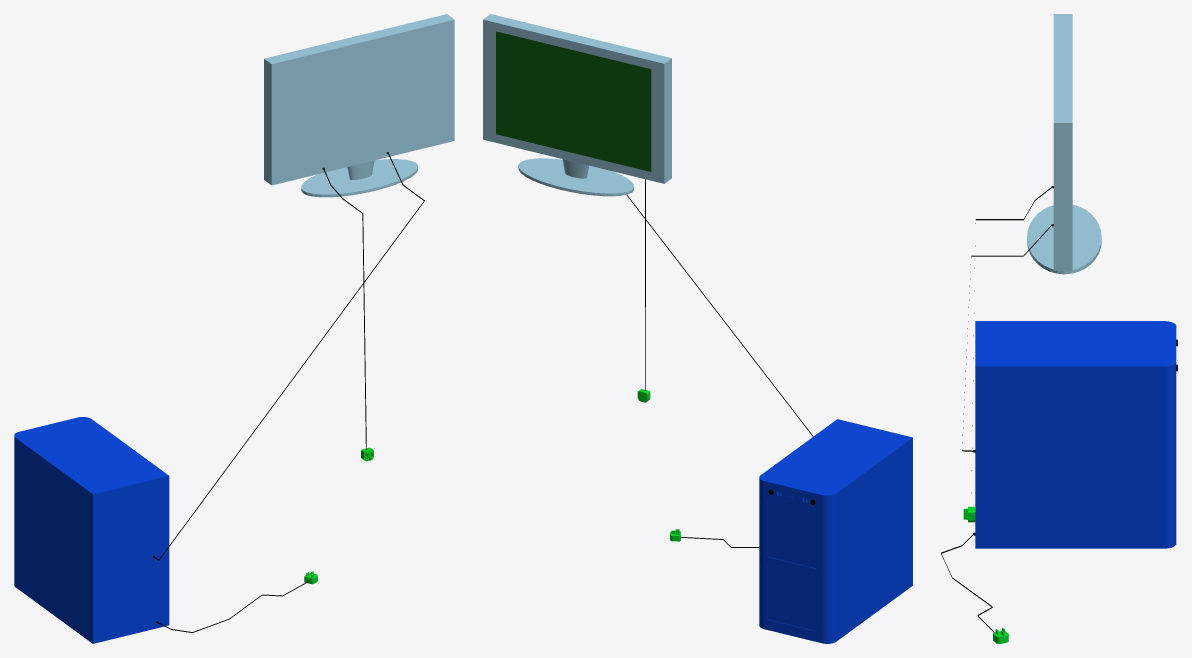
Rendered from Computer_And_Monitor.fbx.
The picture shows the model from 3 angles, left to right: view 1: azimuth 30°, elevation 25°; view 2: azimuth 150°, elevation 25°; view 3: azimuth 270°, elevation 25°; orthographic projection. The views are drawn at different scales.
Parts seen in each view (by area): view 1: Computer_And_Monitor; view 2: Computer_And_Monitor; view 3: Computer_And_Monitor.
Part boxes in pixels (bbox=[...]): Computer_And_Monitor: bbox=[14, 14, 454, 643]; Computer_And_Monitor: bbox=[483, 14, 912, 643]; Computer_And_Monitor: bbox=[941, 14, 1177, 643].
Size of the model in its own units: 551 by 676 by 236.
